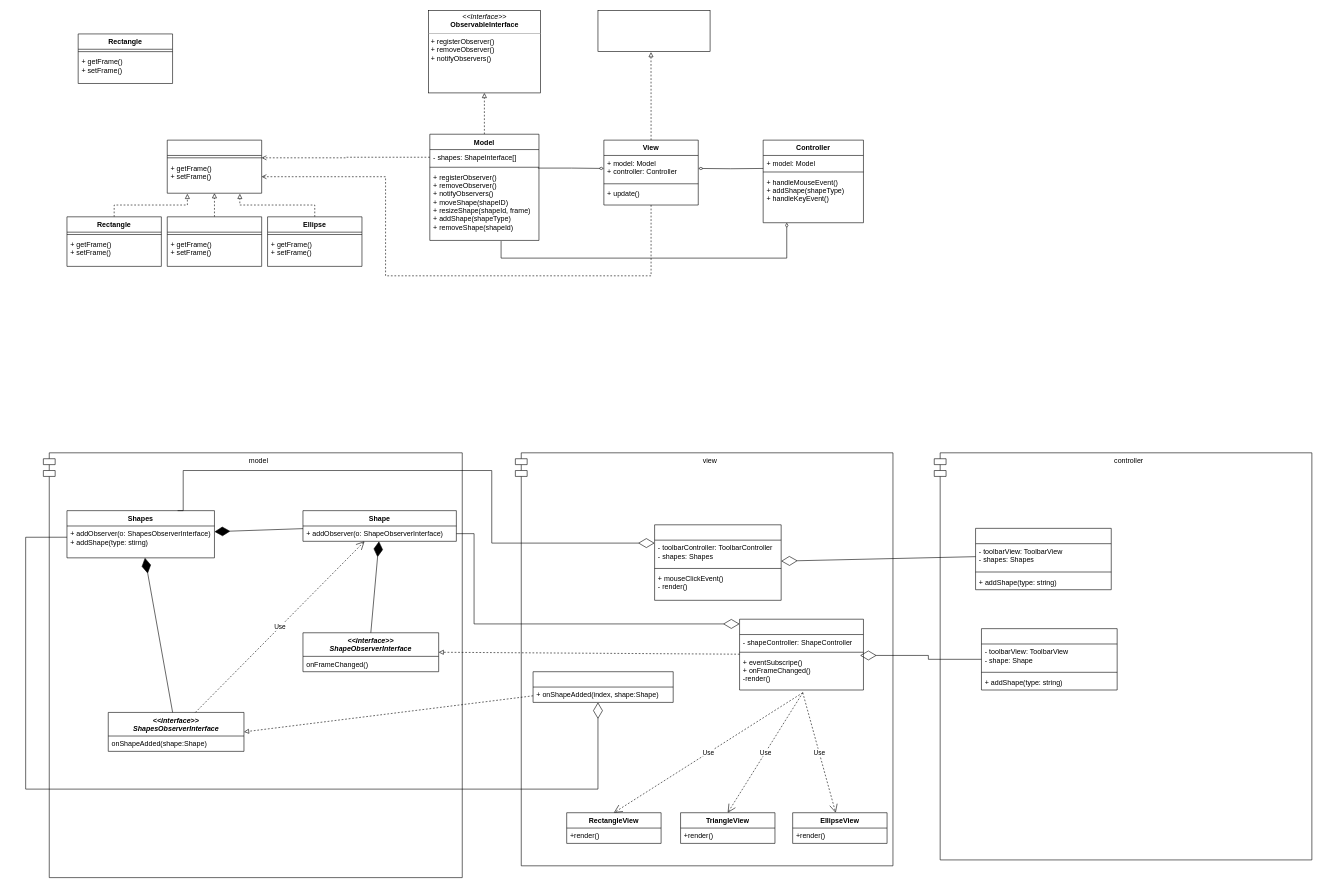
Some shapes in this 1322 by 888 pixel diagram are drawn without their labels. Here are the shapes that lost their labels. From the top down, the box of each, then its label:
(597, 10, 710, 52): <<Interface>> ObserverInterface + update()
(167, 140, 262, 193): ShapeInterface
(167, 216, 262, 266): Triangle
(654, 524, 781, 600): ToolbarView
(975, 528, 1111, 590): ToolbarController
(739, 619, 863, 690): ShapeView
(981, 628, 1117, 690): ShapeController
(532, 671, 673, 702): ShapesView
